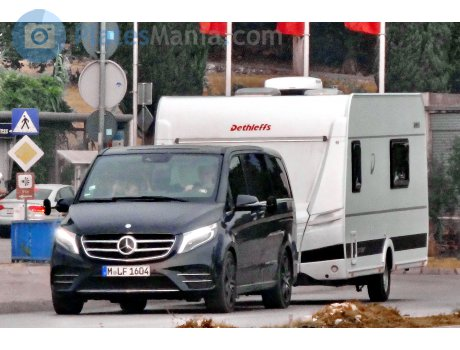License Plates: (105, 265, 148, 272)
